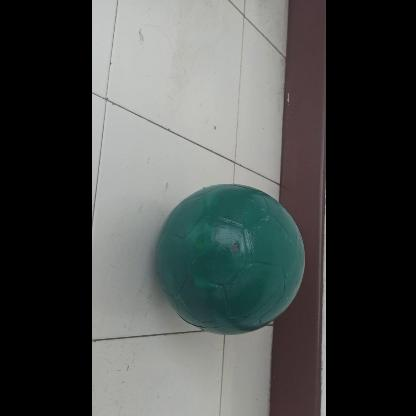green_ball: (152, 186, 306, 340)
